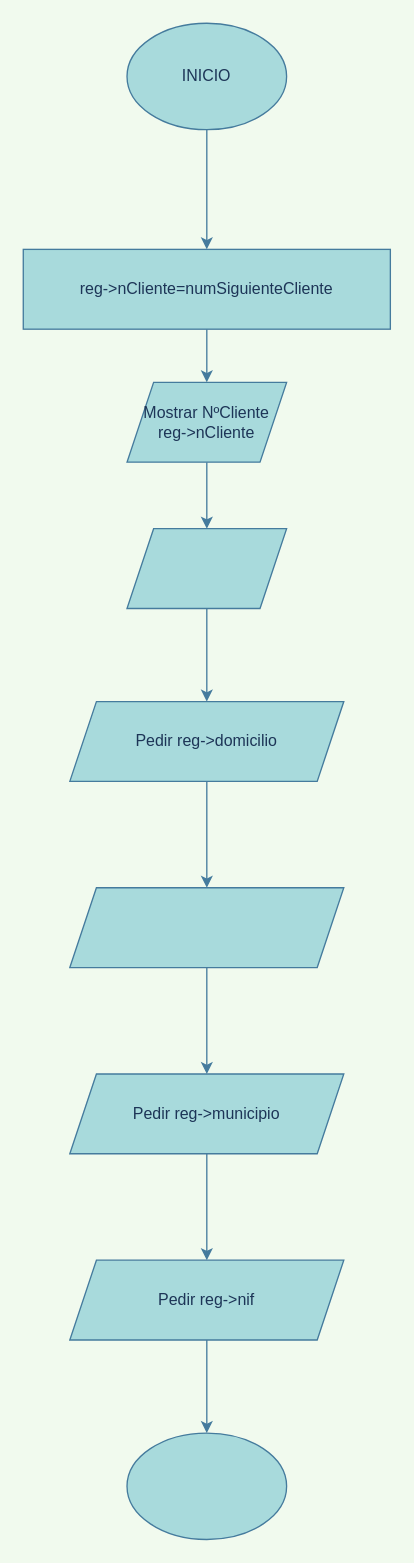
The diagram is 414 pixels wide and 1563 high, and some of its shapes have lost their labels. Each missing label, with the centre of its shape:
"FIN" goes at (206,1485).
"Pedir reg->codigoPostal" goes at (206,927).
"Pedir reg->nombre" goes at (206,567).
